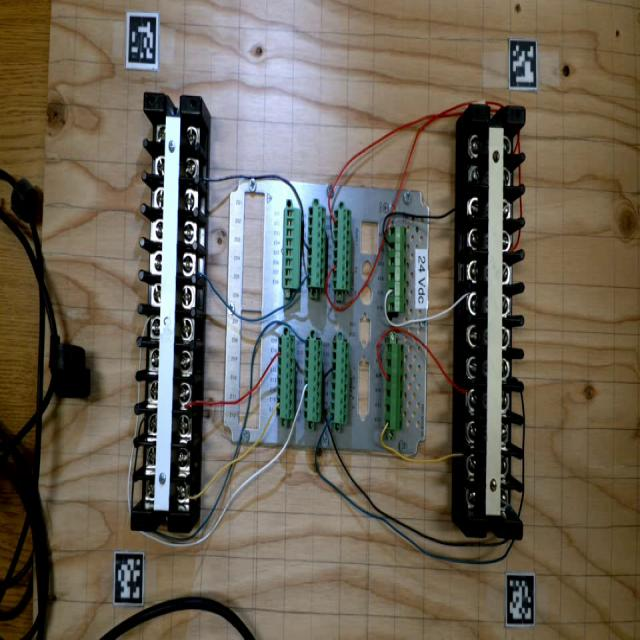Flathead_Block: (466, 105, 526, 540)
Phillips_Block: (131, 92, 202, 533)
Terminal_1: (384, 343, 404, 431), (387, 226, 407, 313)
Terminal_2: (330, 341, 350, 424), (306, 206, 326, 288), (276, 336, 295, 419), (304, 339, 323, 422), (332, 208, 351, 291)
